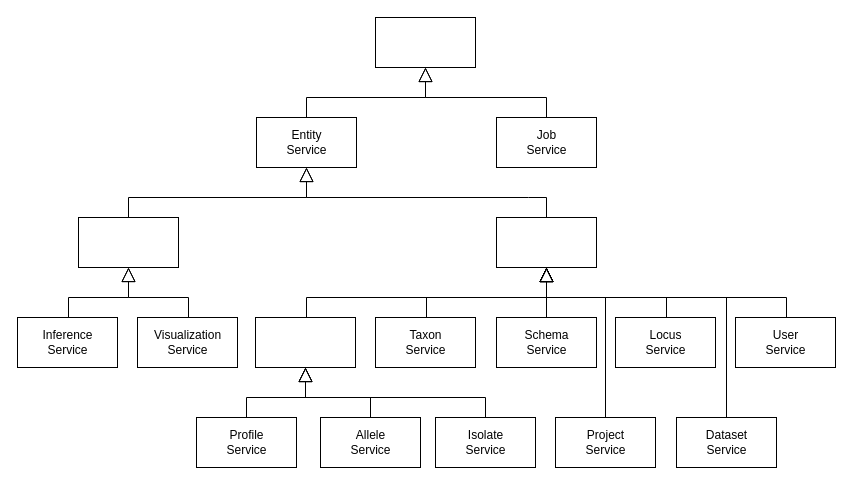
The diagram is 853 pixels wide and 485 high, and some of its shapes have lost their labels. Each missing label, with the centre of its shape:
Batch Service: (x=305, y=342)
Service: (x=425, y=42)
UnversionedEntity Service: (x=128, y=242)
VersionedEntity Service: (x=546, y=242)
